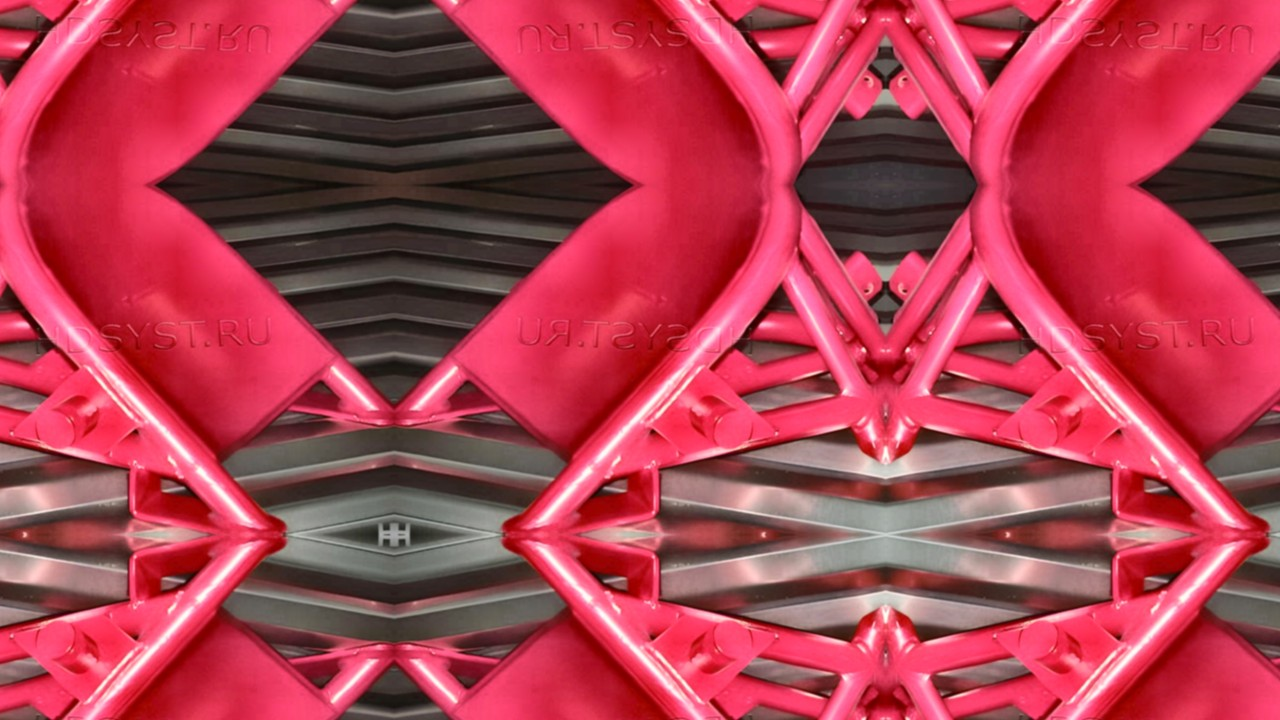chock: (394, 185, 886, 535), (0, 185, 394, 535), (886, 185, 1280, 535), (394, 0, 886, 185), (394, 535, 886, 720), (0, 0, 394, 185), (886, 0, 1280, 185), (0, 535, 394, 720), (886, 535, 1280, 720)
